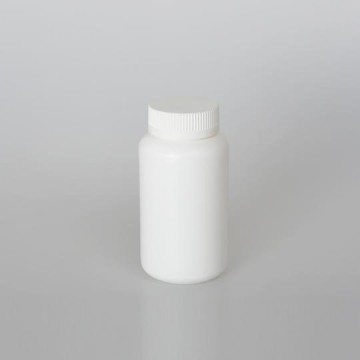medicinejar: (134, 101, 242, 281)
